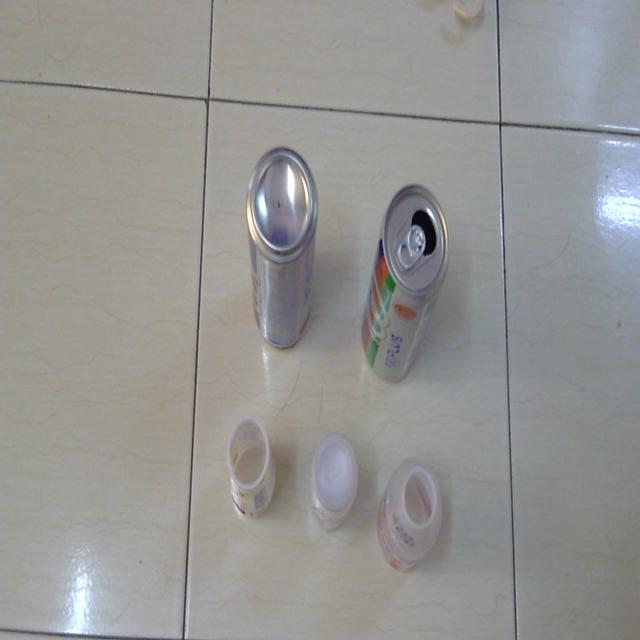metal_standrotation: (357, 179, 454, 388), (242, 145, 326, 363)
plastic_standrotation: (375, 451, 444, 575), (221, 409, 283, 523), (306, 428, 358, 538)
